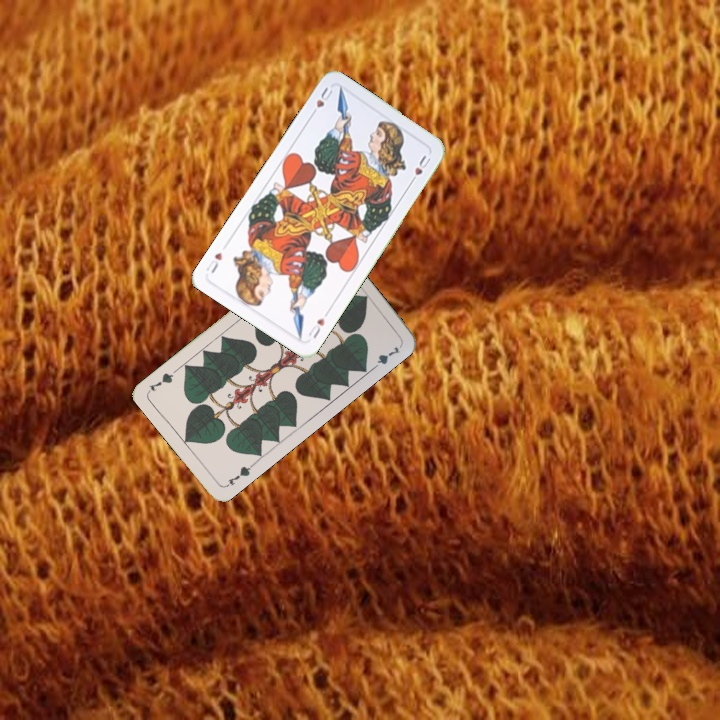G7: (221, 460, 256, 490)
HU: (307, 82, 335, 119), (304, 307, 331, 341)
